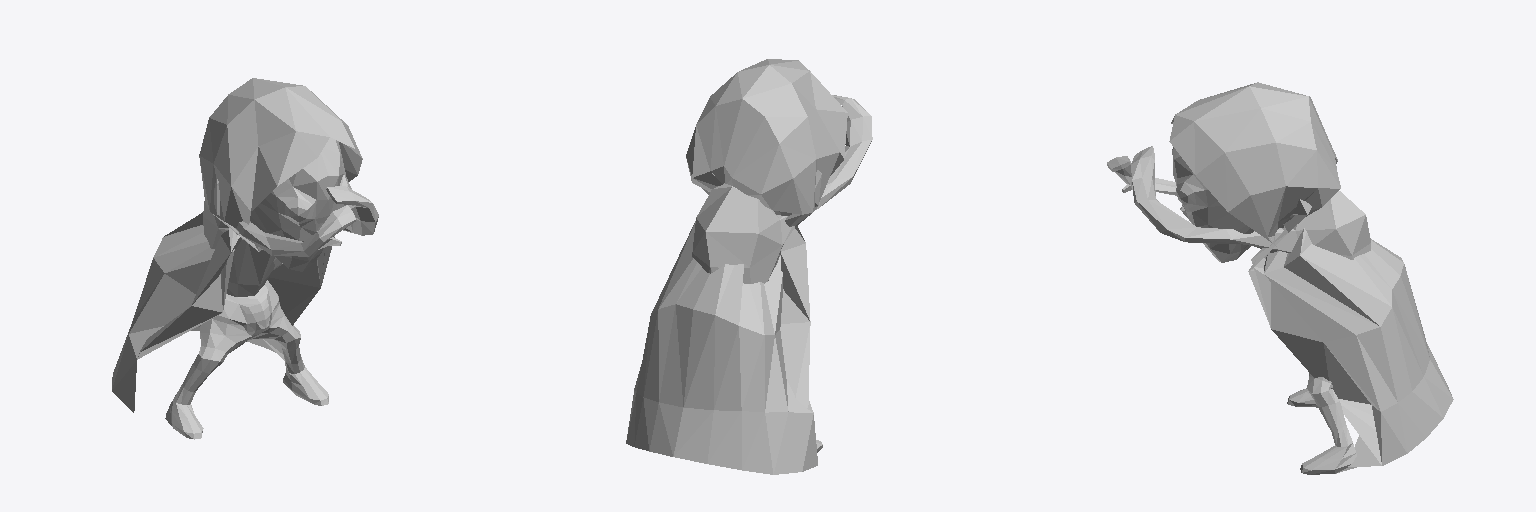
The model's file is GuardianNormal_000098.obj.
The picture shows the model from 3 angles: view 1: azimuth 30°, elevation 25°; view 2: azimuth 150°, elevation 25°; view 3: azimuth 270°, elevation 25°; orthographic projection.
Visible parts, largest first — view 1: untitled2:Mesh1.000; view 2: untitled2:Mesh1.000; view 3: untitled2:Mesh1.000.
Boxes of the visible parts, <box> form: untitled2:Mesh1.000: <box>112,78,378,439</box>; untitled2:Mesh1.000: <box>626,59,872,474</box>; untitled2:Mesh1.000: <box>1107,82,1453,474</box>.
Size of the model in its own units: 7.8 by 14.73 by 13.13.